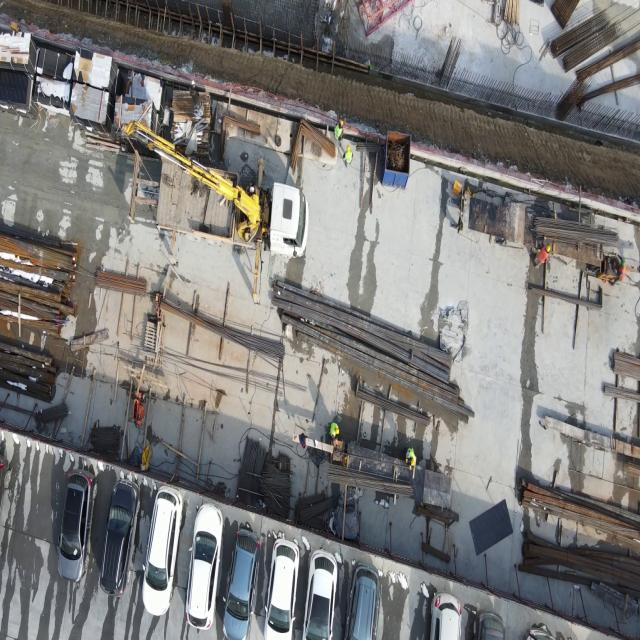p3rson: (533, 234, 551, 269), (608, 252, 626, 286), (188, 79, 202, 108), (342, 143, 353, 168), (405, 447, 416, 470), (329, 421, 339, 445), (334, 119, 344, 142), (246, 182, 260, 196)
